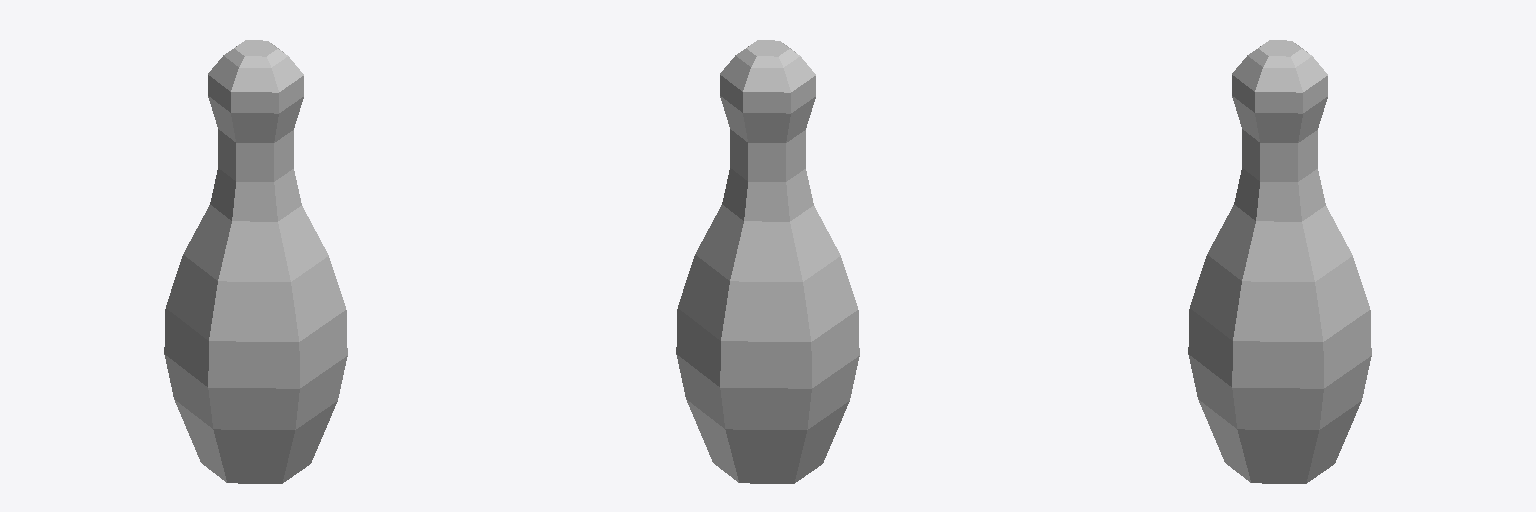
Rendered from bowling.obj.
The picture shows the model from 3 angles: view 1: azimuth 30°, elevation 25°; view 2: azimuth 150°, elevation 25°; view 3: azimuth 270°, elevation 25°; orthographic projection.
Size of the model in its own units: 0.2137 by 0.6081 by 0.2434.